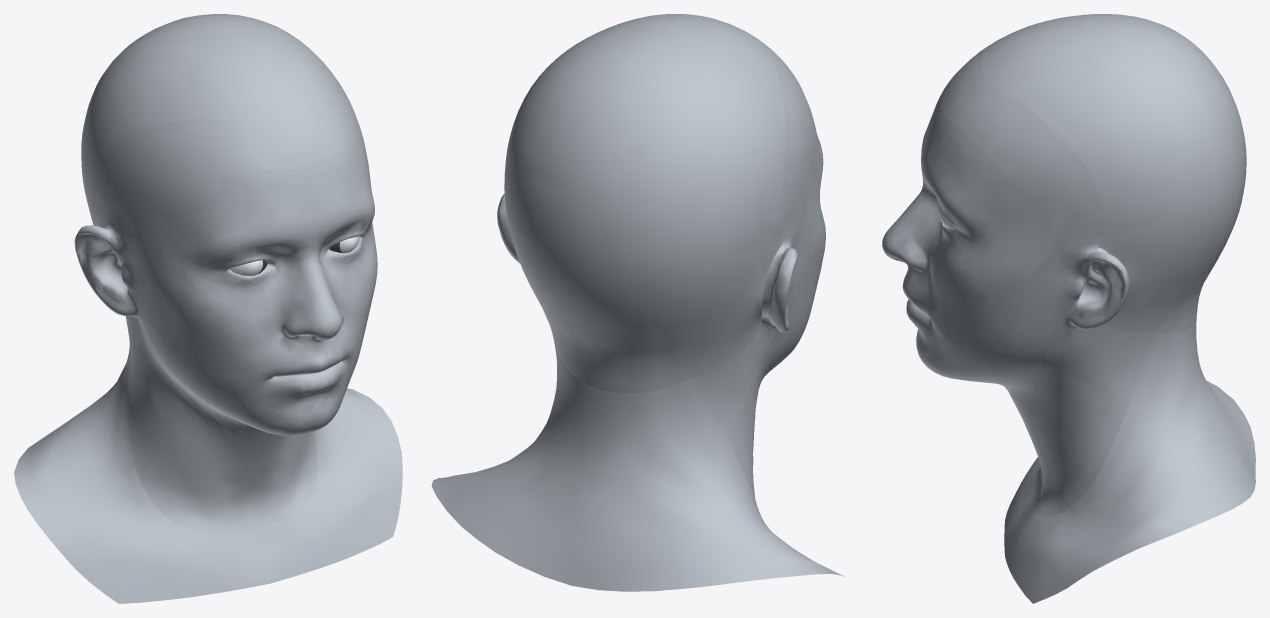
File: hologlyph-bust.glb
The picture shows the model from 3 angles, left to right: view 1: azimuth 30°, elevation 25°; view 2: azimuth 150°, elevation 25°; view 3: azimuth 270°, elevation 25°; orthographic projection. The views are drawn at different scales.
Visible parts, largest first — view 1: hologlyph-bust.glb; view 2: hologlyph-bust.glb; view 3: hologlyph-bust.glb.
Part boxes in pixels (x1,y1,x2,y2): hologlyph-bust.glb: (14, 14, 402, 603); hologlyph-bust.glb: (431, 14, 844, 591); hologlyph-bust.glb: (882, 14, 1255, 603).
Bounding box in the file's own units: 0.7344 × 1 × 0.6601.
1 material, 1 textured.
